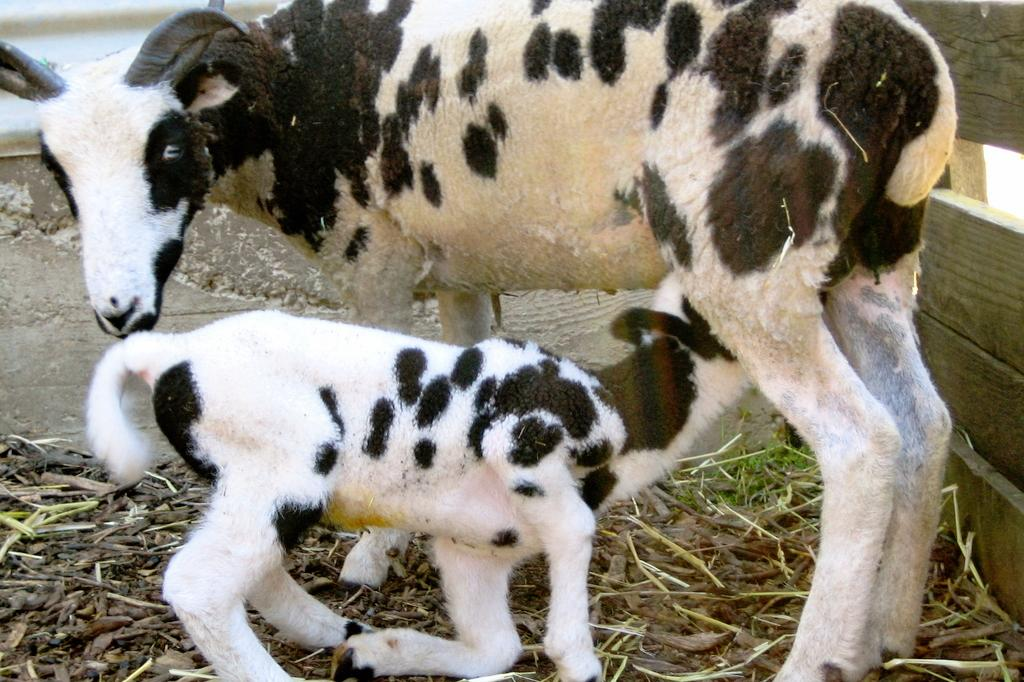Sheep: (0, 0, 951, 682), (84, 282, 765, 682)
